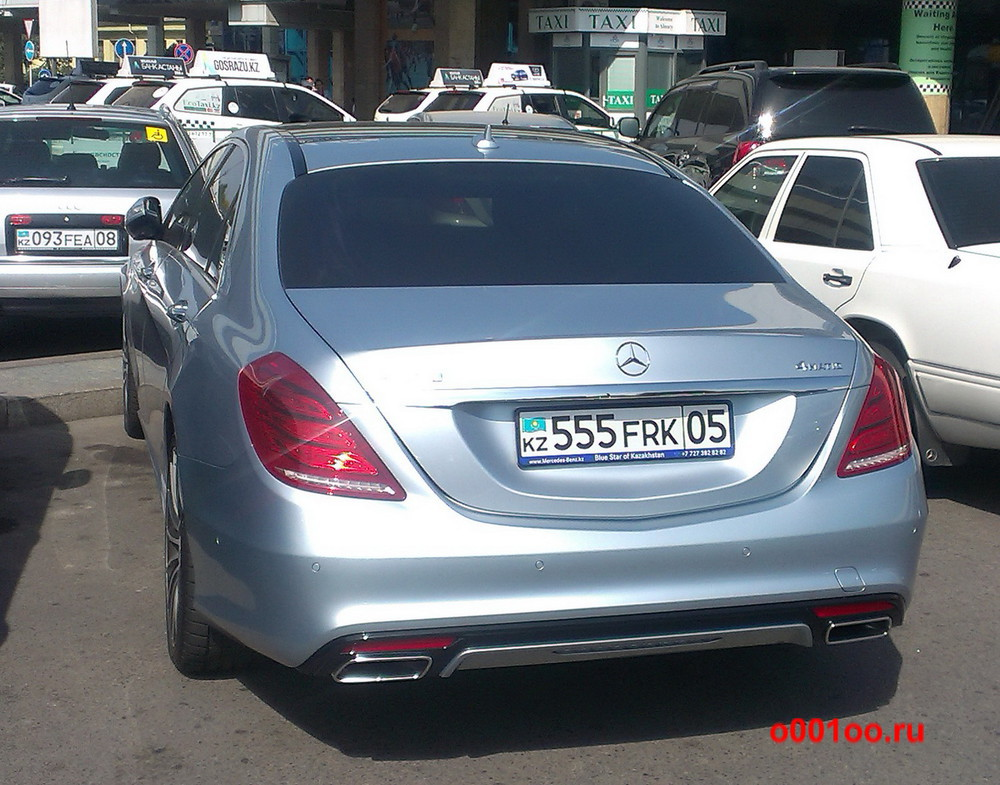license_plate: (517, 408, 733, 457)
